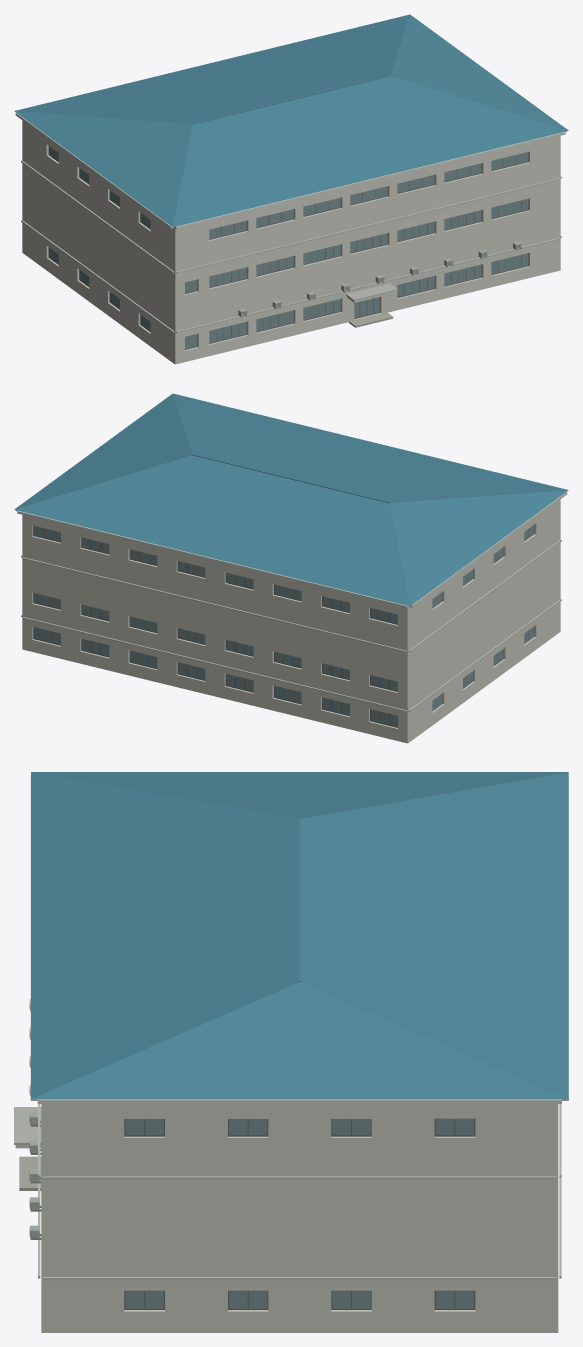
The picture shows the model from 3 angles, top to bottom: view 1: azimuth 30°, elevation 25°; view 2: azimuth 150°, elevation 25°; view 3: azimuth 270°, elevation 25°; orthographic projection. The views are drawn at different scales.
Parts seen in each view (by area): view 1: gym__gymRoof, gym__wallWhite, gym__glass, gym__gymJoint, gym__frame, gym__gymEave, gym__gymEquipment; view 2: gym__wallWhite, gym__gymRoof, gym__glass, gym__gymJoint, gym__gymEave, gym__frame; view 3: gym__gymRoof, gym__wallWhite, gym__glass, gym__gymJoint, gym__gymEave, gym__frame, gym__trim.
Boxes of the visible parts, x1,y1,x2,y2 form: gym__gymRoof: (14, 14, 568, 227); gym__wallWhite: (22, 120, 560, 364); gym__glass: (49, 146, 528, 349); gym__gymJoint: (21, 160, 561, 333); gym__frame: (48, 146, 528, 349); gym__gymEave: (15, 113, 567, 229); gym__gymEquipment: (238, 241, 521, 316); gym__wallWhite: (22, 499, 560, 743); gym__gymRoof: (14, 393, 568, 606); gym__glass: (34, 525, 533, 727); gym__gymJoint: (21, 539, 561, 712); gym__gymEave: (15, 492, 567, 608); gym__frame: (33, 525, 534, 727); gym__gymRoof: (31, 772, 568, 1099); gym__wallWhite: (41, 1104, 558, 1332); gym__glass: (125, 1118, 473, 1308); gym__gymJoint: (38, 1104, 561, 1280); gym__gymEave: (30, 776, 568, 1103); gym__frame: (29, 1001, 475, 1309); gym__trim: (14, 1107, 41, 1144).
Bounding box in the file's own units: 43.89 × 17.25 × 31.45.
